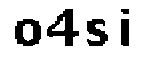4: (46, 5, 81, 51)
i: (117, 5, 135, 47)
o: (10, 17, 43, 49)
s: (82, 14, 111, 51)
